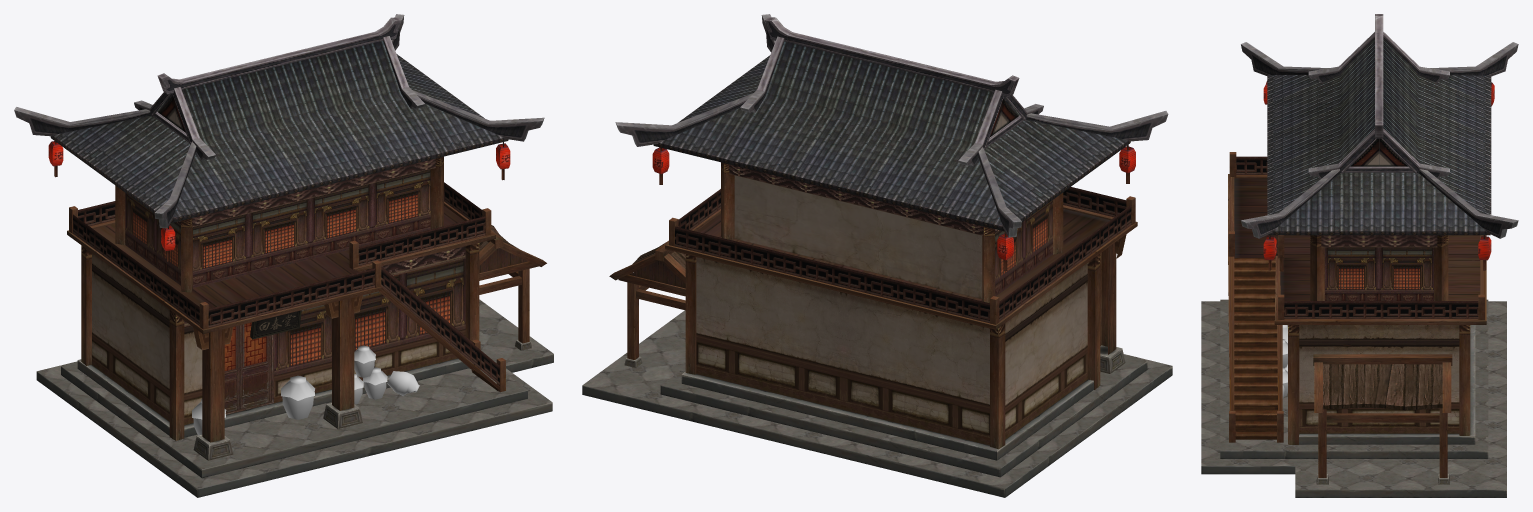
File: s7_3d_jz_jiuguan_new_01.FBX
The picture shows the model from 3 angles, left to right: view 1: azimuth 30°, elevation 25°; view 2: azimuth 150°, elevation 25°; view 3: azimuth 270°, elevation 25°; orthographic projection. The views are drawn at different scales.
Parts seen in each view (by area): view 1: Object09, T_s7_3d_jz_shangpu_09, Object28; view 2: Object09, T_s7_3d_jz_shangpu_09; view 3: Object09, T_s7_3d_jz_shangpu_09, Object28.
Boxes of the visible parts, x1,y1,x2,y2 form: Object09: (14,14,553,497); T_s7_3d_jz_shangpu_09: (37,299,553,488); Object28: (192,345,419,435); Object09: (582,14,1172,497); T_s7_3d_jz_shangpu_09: (582,310,1172,488); Object09: (1201,14,1518,497); T_s7_3d_jz_shangpu_09: (1201,299,1506,489); Object28: (1282,325,1287,399).
Size of the model in its own units: 38.69 by 29.29 by 26.11.
